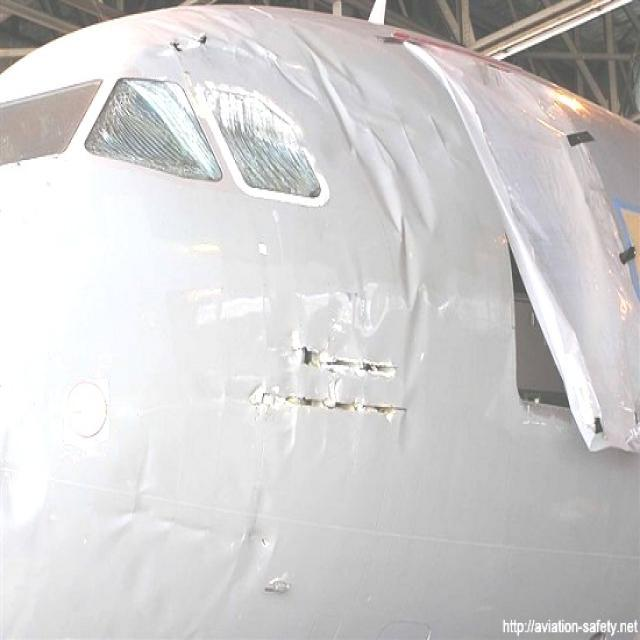crack: (243, 337, 419, 424)
dent: (142, 3, 462, 469)
